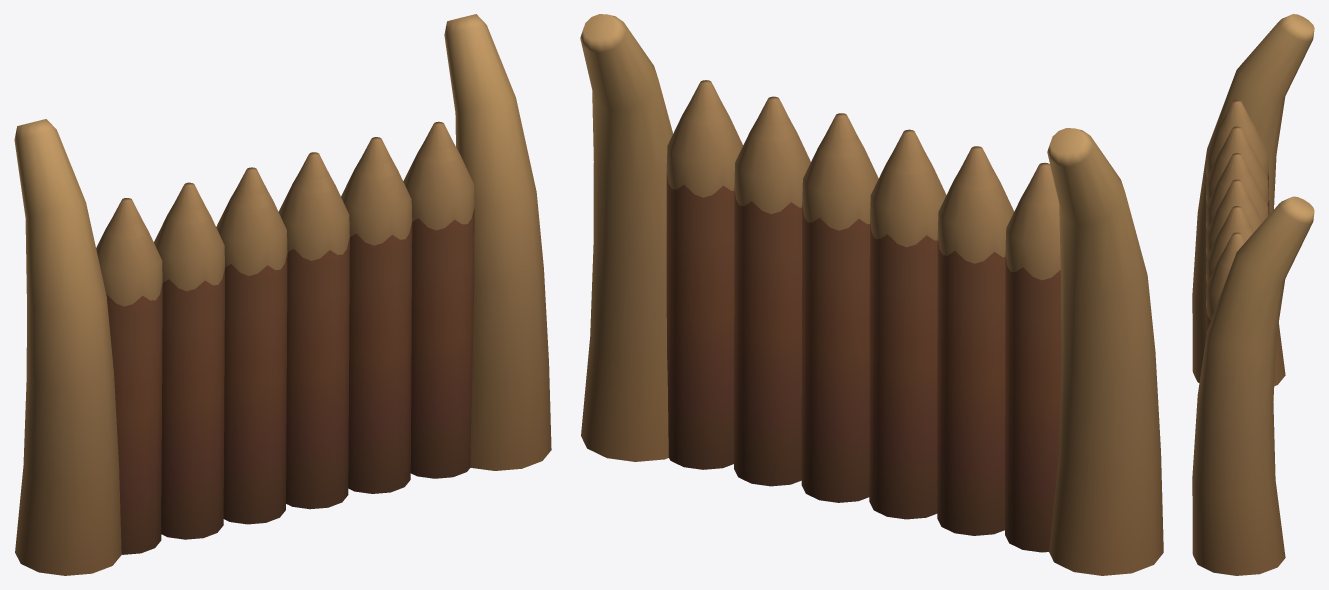
The model's file is Fence_1.001.fbx.
3 views of the same model, side by side, from view 1: azimuth 30°, elevation 25°; view 2: azimuth 150°, elevation 25°; view 3: azimuth 270°, elevation 25° (orthographic). The views are drawn at different scales.
Parts seen in each view (by area): view 1: Fence_1.001; view 2: Fence_1.001; view 3: Fence_1.001.
Part boxes in pixels (x1,y1,x2,y2): Fence_1.001: (14,14,551,575); Fence_1.001: (580,14,1163,575); Fence_1.001: (1192,14,1314,575).
Size of the model in its own units: 244 by 184 by 56.76.
